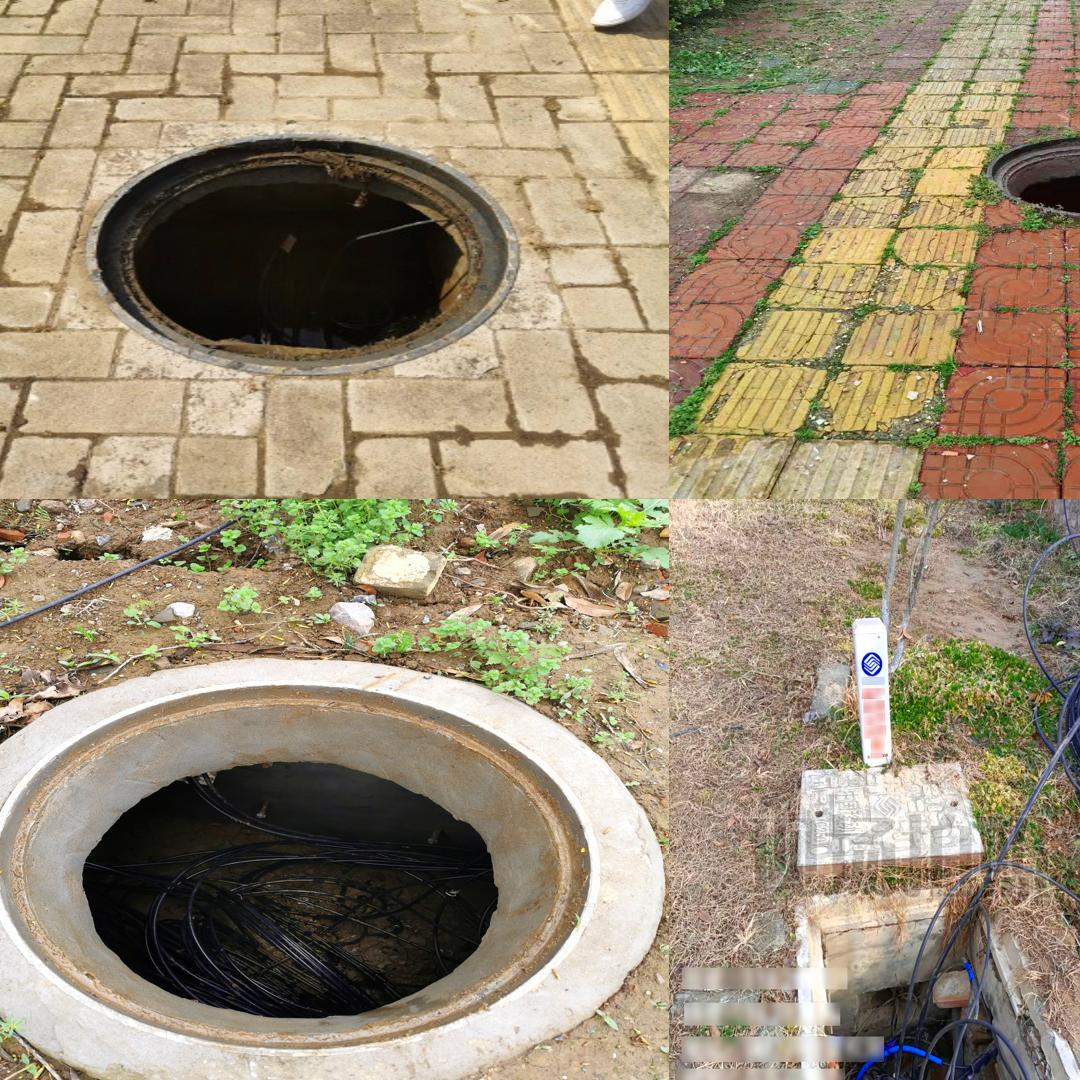lose: (0, 656, 647, 1080), (84, 132, 519, 374), (792, 886, 1080, 1080), (988, 133, 1080, 219)
